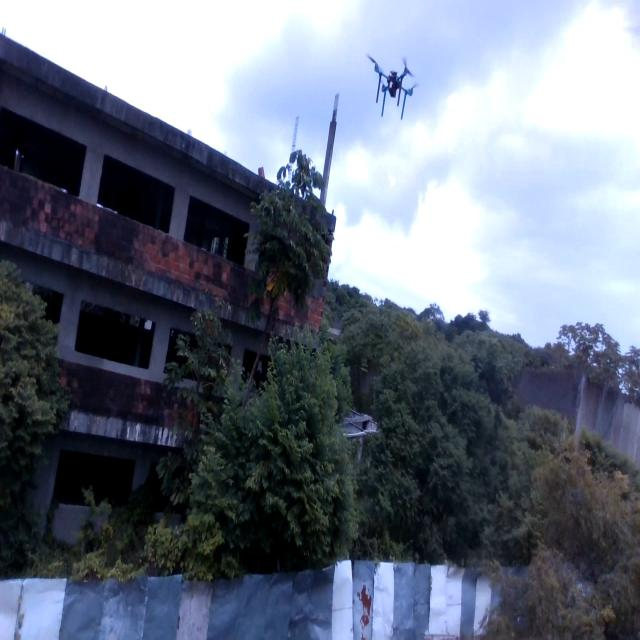-uav-: (358, 39, 428, 142)
